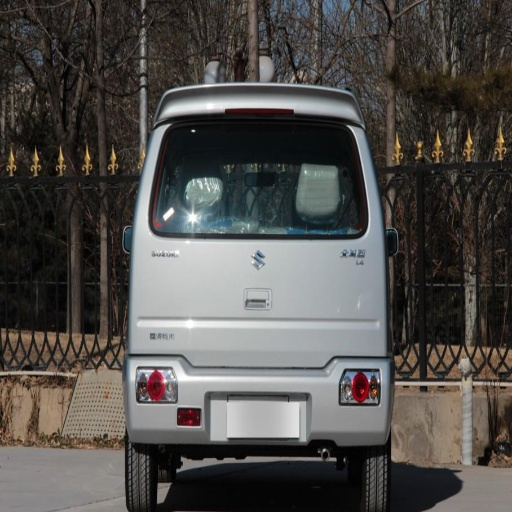back_bumper: (128, 355, 392, 441)
back_glass: (163, 121, 296, 236)
trunk: (135, 241, 380, 367)
